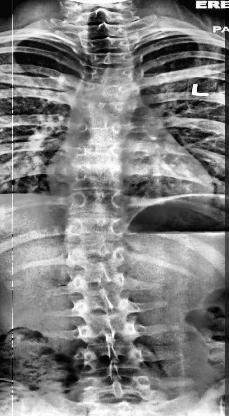Vertebrae: (83, 379, 159, 410), (77, 359, 146, 383), (75, 294, 136, 320), (67, 218, 126, 242), (70, 247, 128, 270), (80, 340, 146, 360), (80, 318, 140, 340), (70, 192, 124, 216), (72, 271, 128, 292), (75, 165, 124, 187), (79, 140, 123, 162), (77, 120, 129, 138), (78, 98, 124, 118), (84, 80, 126, 100), (88, 66, 134, 84), (88, 53, 138, 69)
